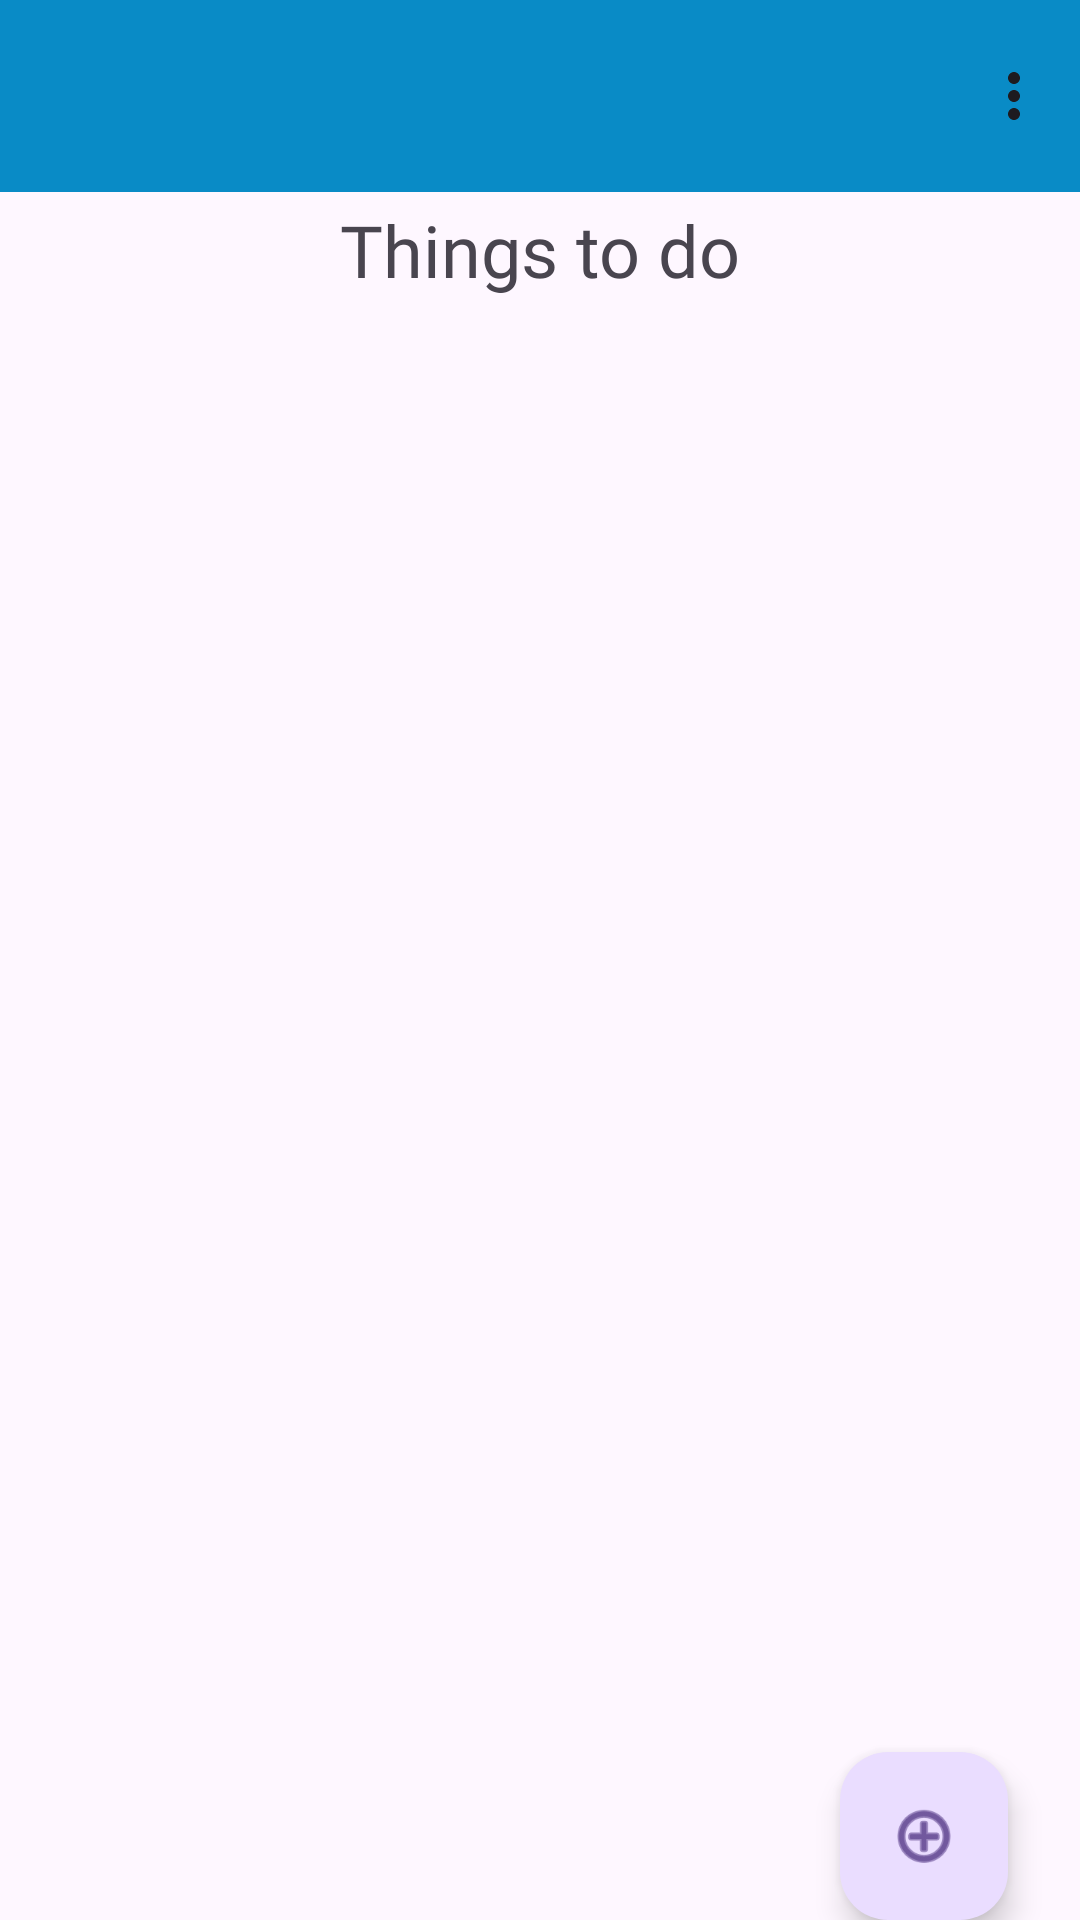

Screen size 1080px x 1920px. Icon name, then its box in pixels as detection(x1, y1, x2, y2):
add: detection(840, 1752, 1008, 1920)
